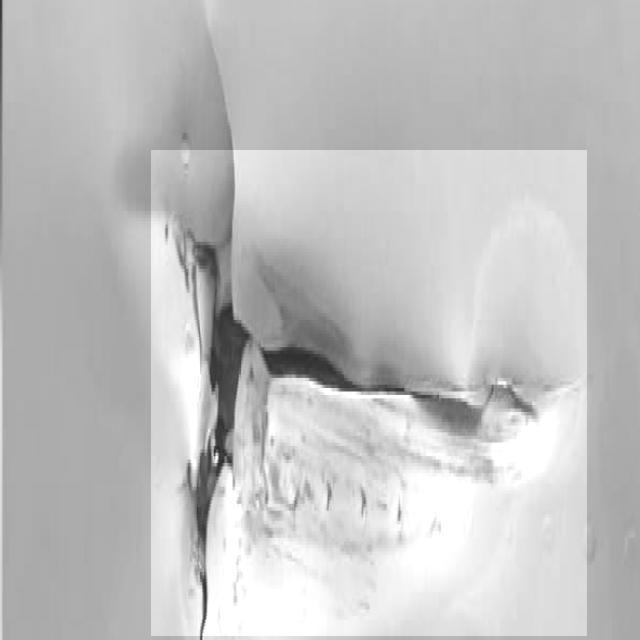crack: (152, 151, 588, 638)
